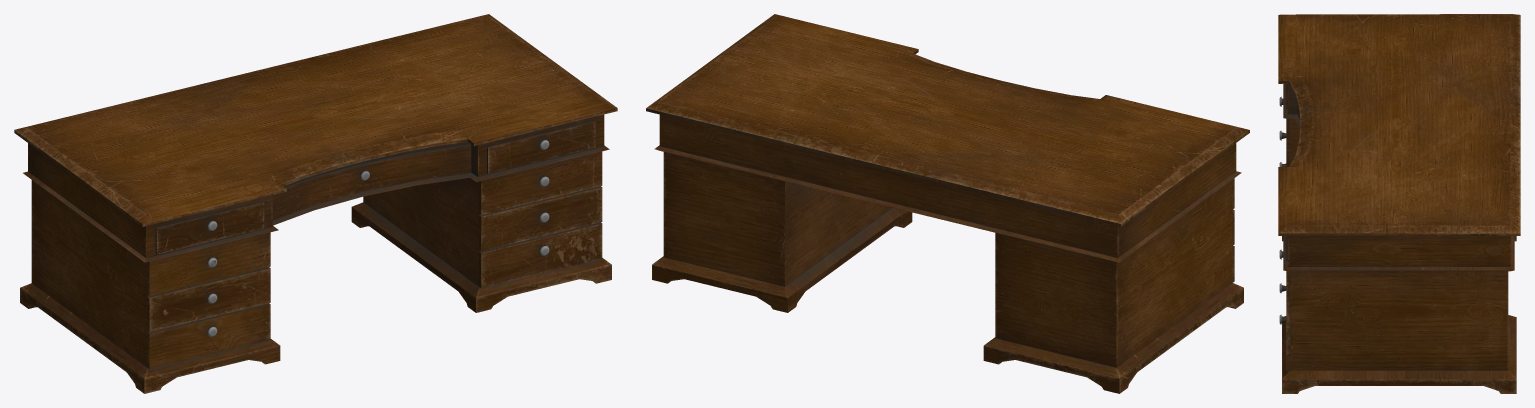
File: office_desk_-_18mb.glb
3 views of the same model, side by side, from view 1: azimuth 30°, elevation 25°; view 2: azimuth 150°, elevation 25°; view 3: azimuth 270°, elevation 25° (orthographic). The views are drawn at different scales.
Visible parts, largest first — view 1: Disc_4__0; view 2: Disc_4__0; view 3: Disc_4__0.
Part boxes in pixels (bbox=[...]): Disc_4__0: bbox=[14, 14, 617, 393]; Disc_4__0: bbox=[646, 14, 1249, 393]; Disc_4__0: bbox=[1278, 14, 1520, 393].
Bounding box in the file's own units: 2.27 × 0.8071 × 1.07.
1 material, 1 textured.
